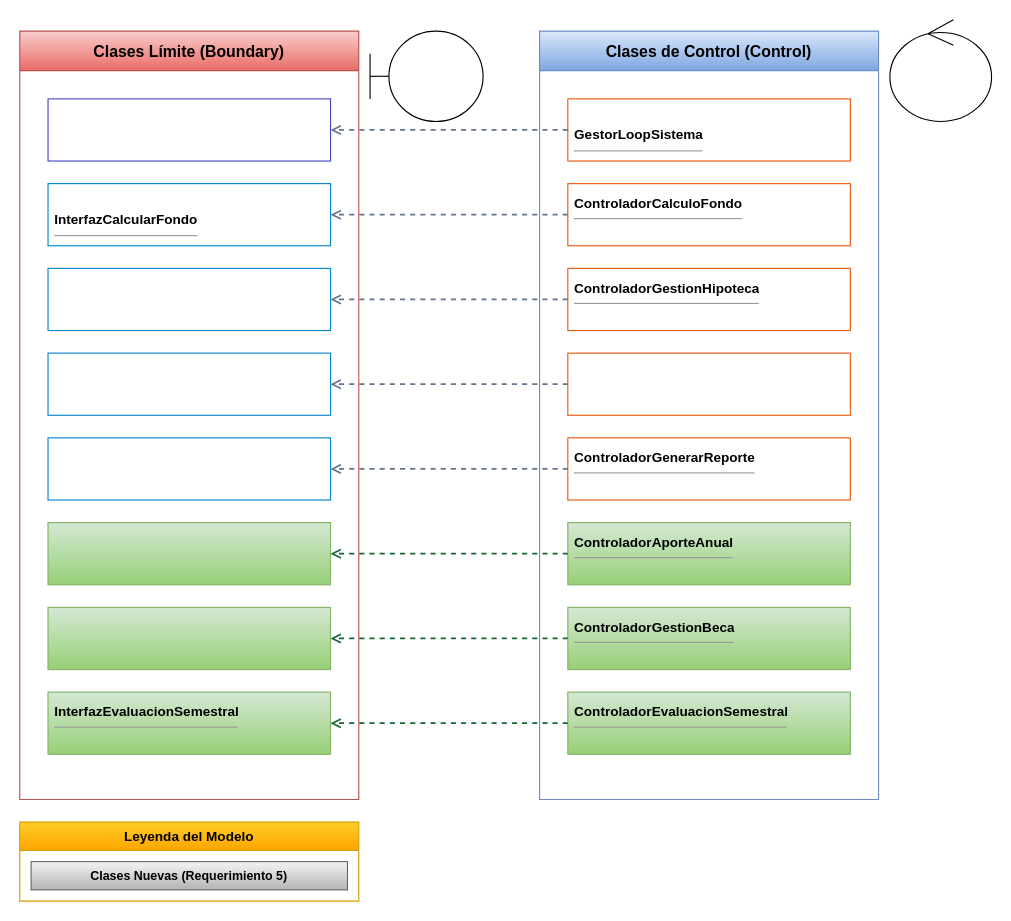
The diagram is 1011 pixels wide and 921 high, and some of its shapes have lost their labels. The shapes that lost their labels are listed below. From the top down, each one's centre as x and y in pixels, then its label:
At point 189,129: "PantallaMenuPrincipal".
At point 189,299: "InterfazGestionHipoteca".
At point 189,383: "InterfazGestionInversion".
At point 708,383: "ControladorGestionInversion".
At point 189,468: "InterfazImpresionReporte".
At point 189,553: "InterfazAporteAnual".
At point 189,638: "InterfazGestionBeca".
